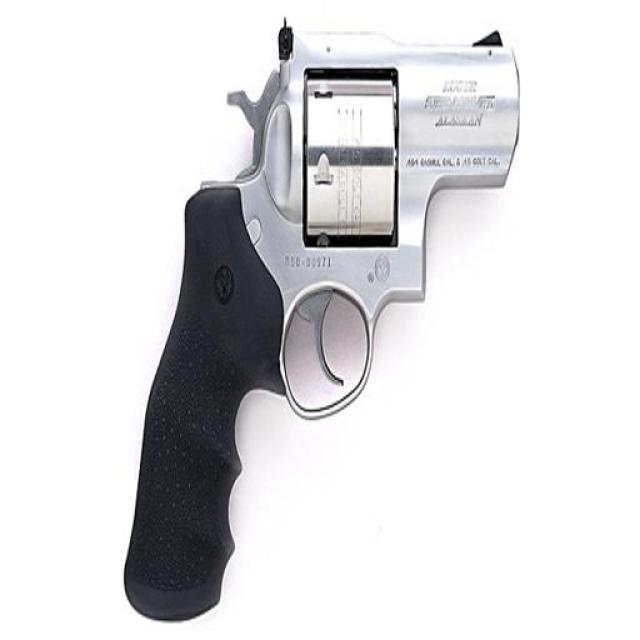pistol: (114, 23, 520, 629)
